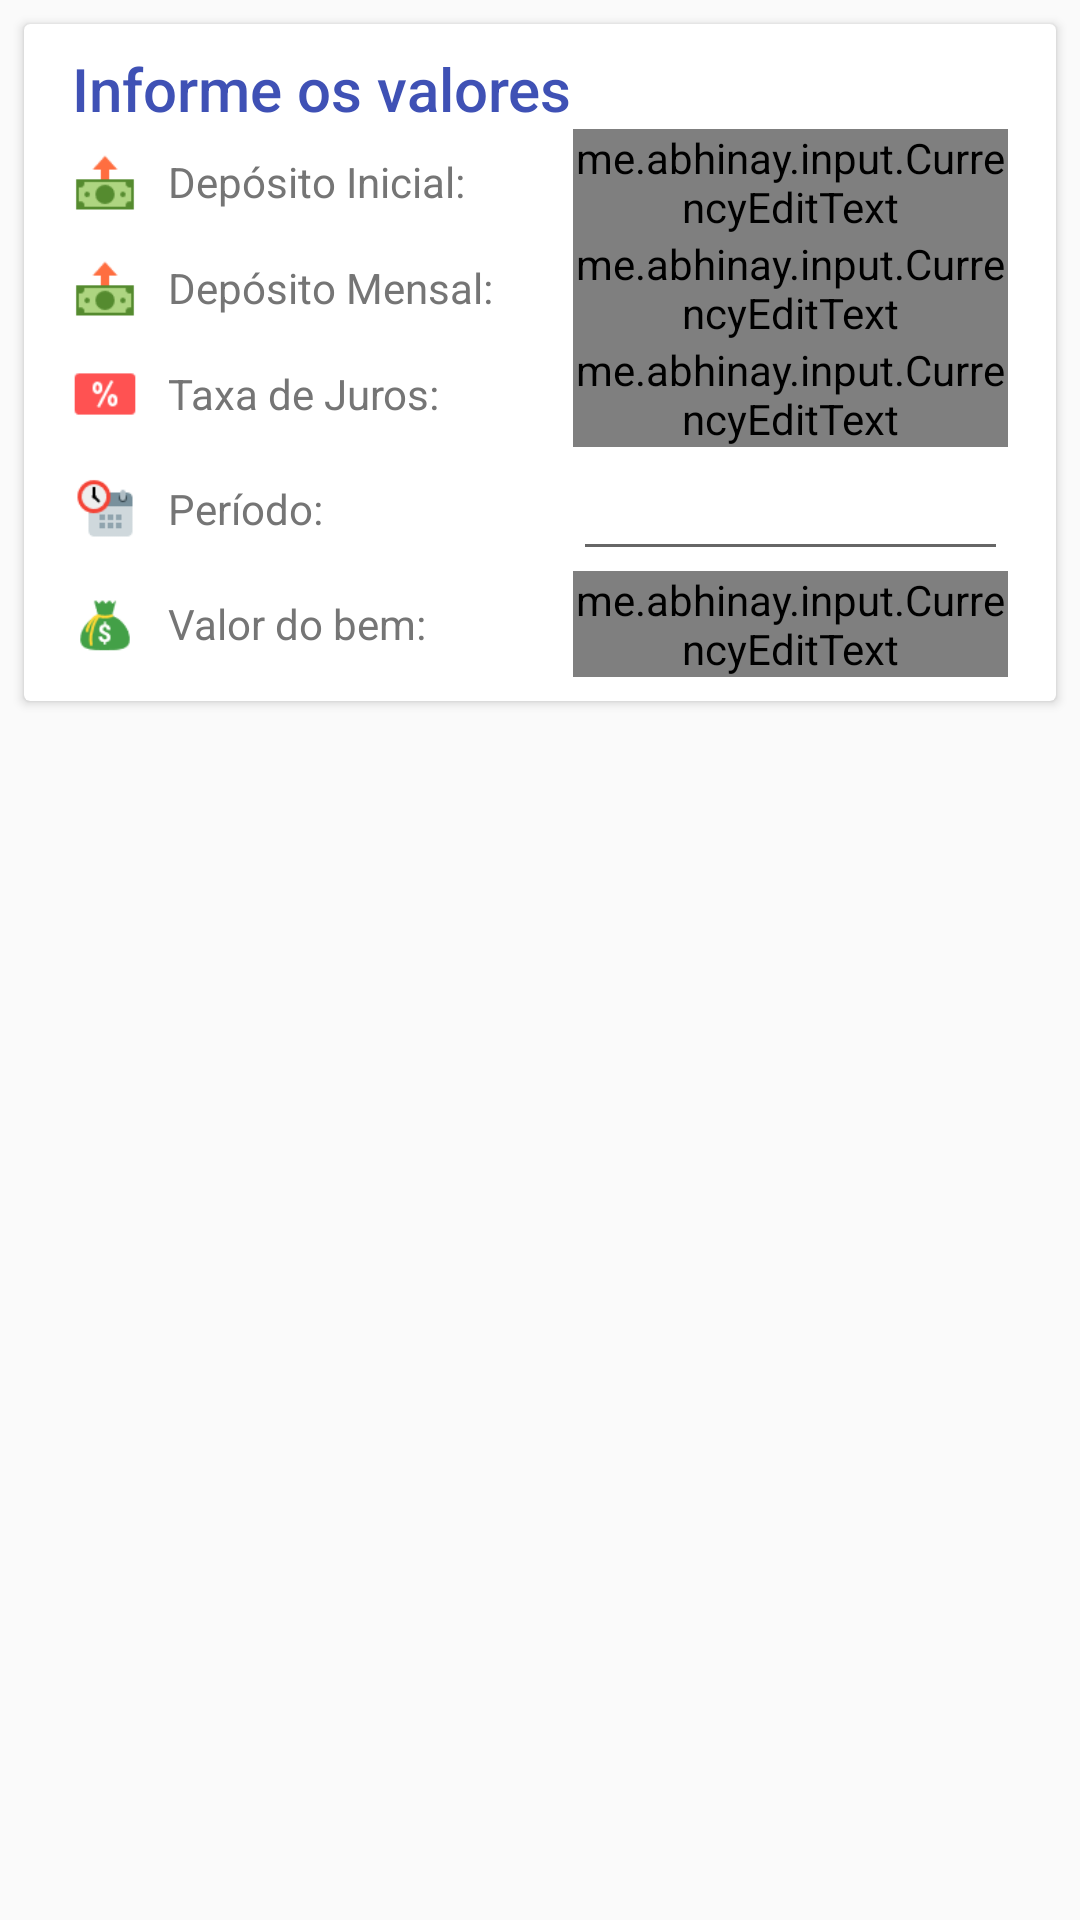

Where icons sit on this 1080 x 1920 app screen, as (x1, y1, x2, y2):
initiate money transfer: (76, 156, 134, 210), (76, 262, 134, 316)
money bag: (80, 600, 130, 651)
overtime: (77, 480, 133, 536)
